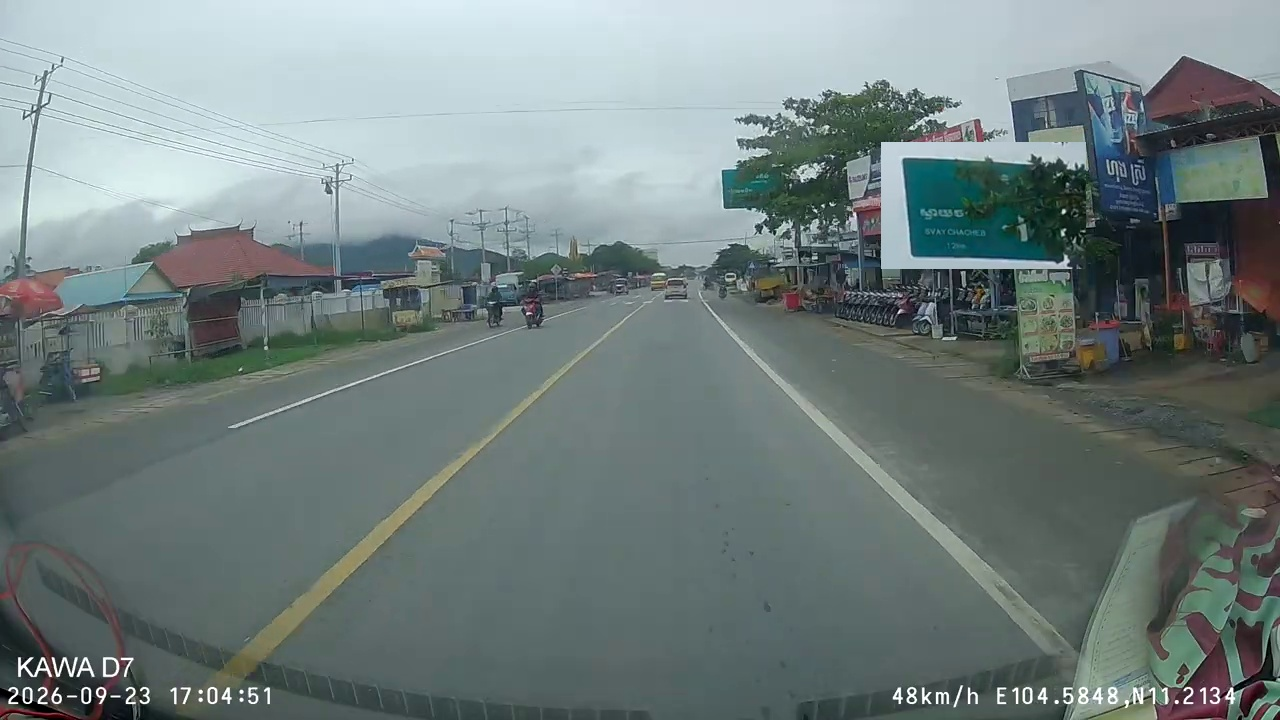direction_sign: (881, 142, 1086, 269)
